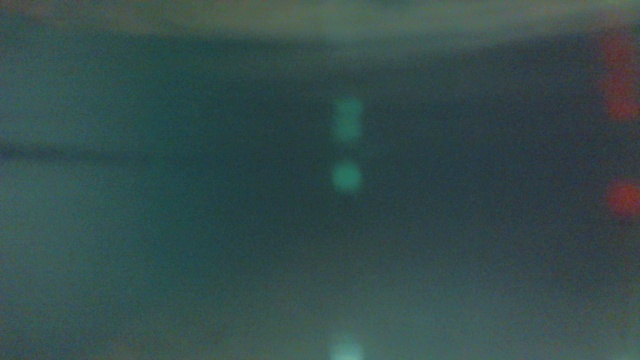buoy_green: (330, 155, 365, 205)
